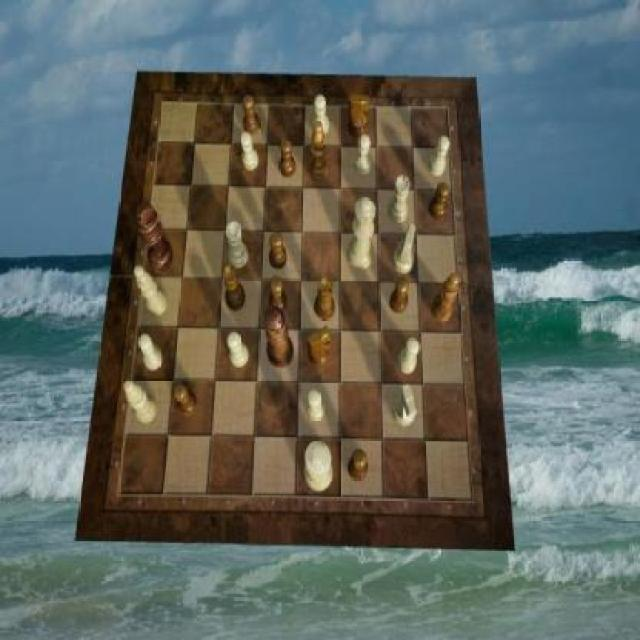bishop: (432, 274, 460, 321), (310, 122, 328, 180)
black-bishop: (137, 201, 174, 274)
black-king: (308, 326, 330, 366), (348, 96, 368, 140)
black-knight: (429, 183, 450, 222), (174, 383, 198, 417), (389, 278, 409, 314), (269, 232, 287, 270), (242, 96, 259, 136), (269, 277, 287, 313), (280, 140, 297, 178), (348, 451, 368, 483)
black-pawn: (264, 306, 294, 369)
black-queen: (222, 266, 246, 312), (314, 276, 334, 320)
black-rook: (134, 264, 168, 316), (124, 380, 158, 424)
white-bishop: (304, 440, 334, 492)
white-king: (394, 223, 417, 274), (392, 385, 416, 427)
white-knight: (139, 332, 163, 370), (429, 135, 450, 177), (398, 337, 421, 375), (226, 332, 249, 367), (240, 132, 259, 171), (314, 95, 331, 137), (354, 134, 371, 175), (306, 389, 326, 422)
white-pawn: (348, 197, 377, 271)
white-queen: (226, 222, 249, 269), (388, 177, 410, 225)
